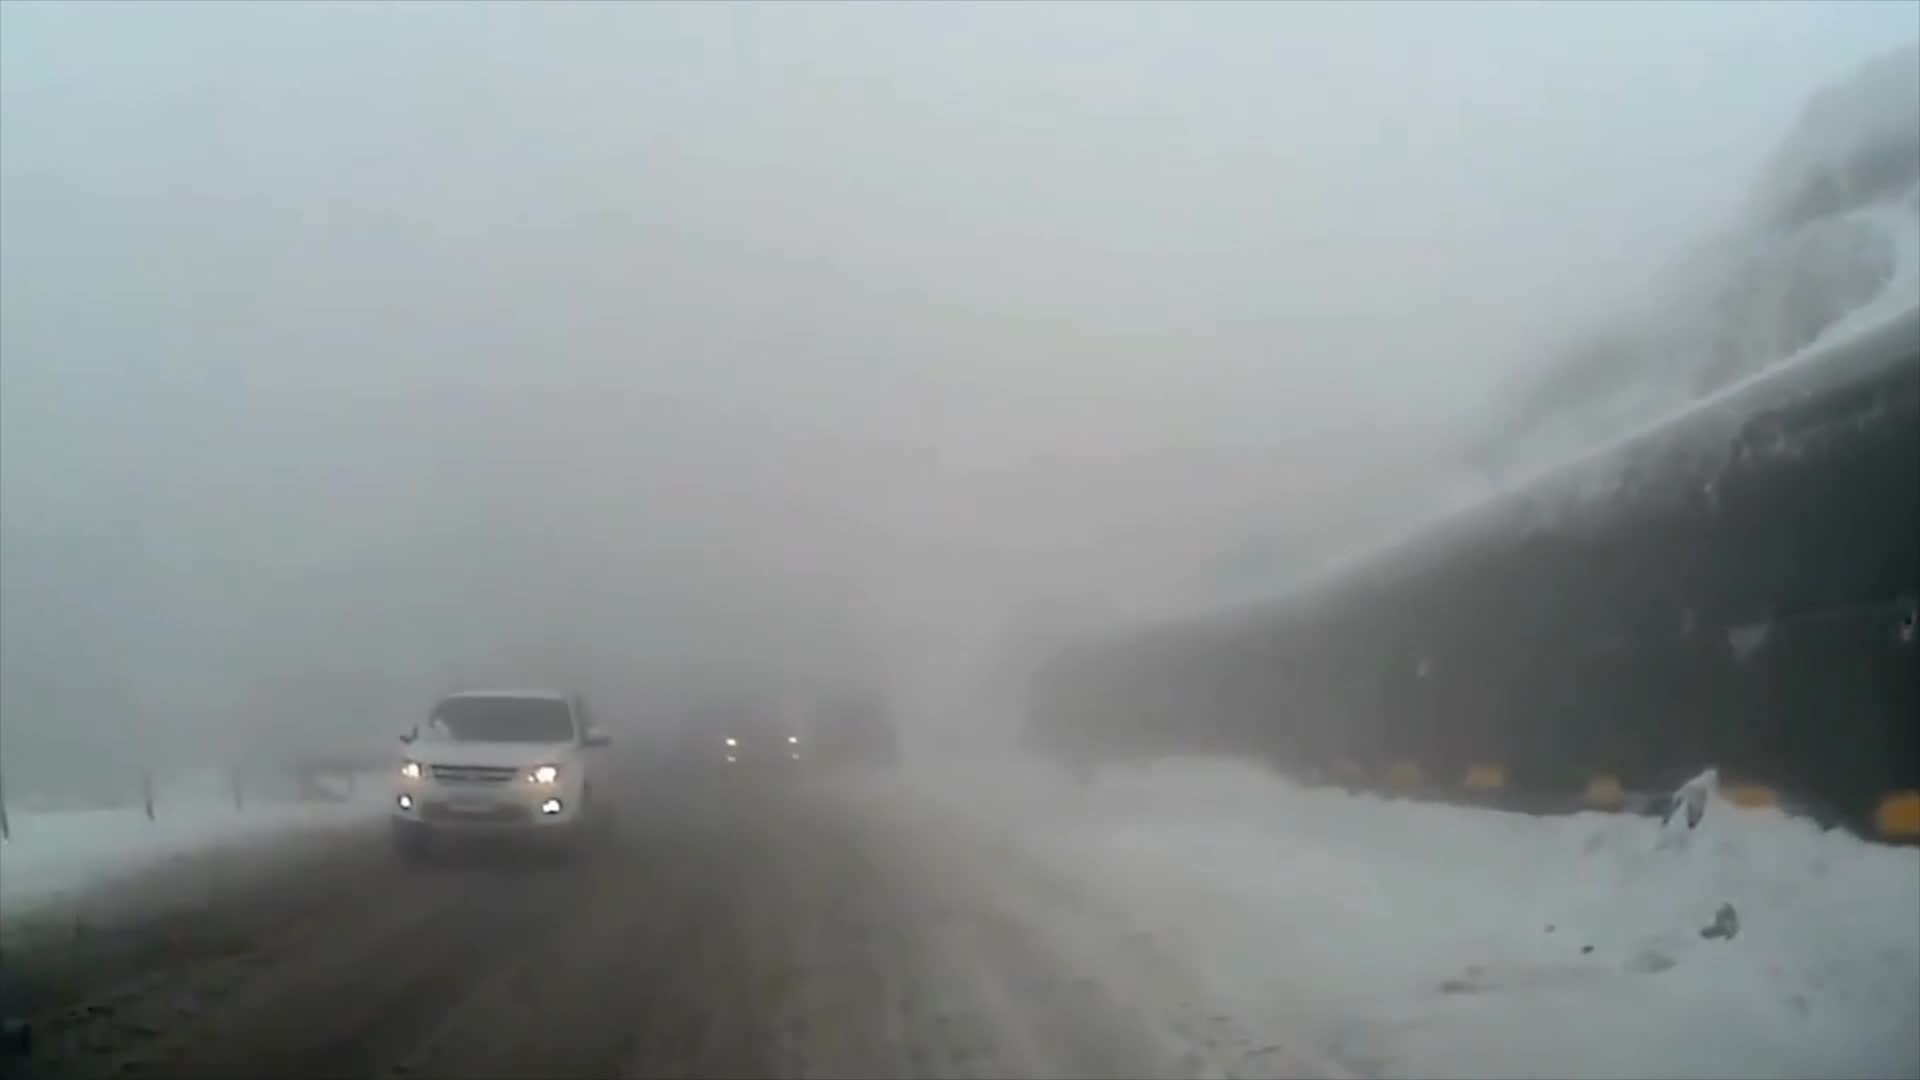vehicle: (386, 686, 618, 866), (682, 694, 803, 787)
